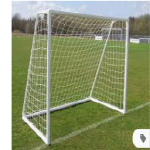goals: (22, 9, 127, 145)
